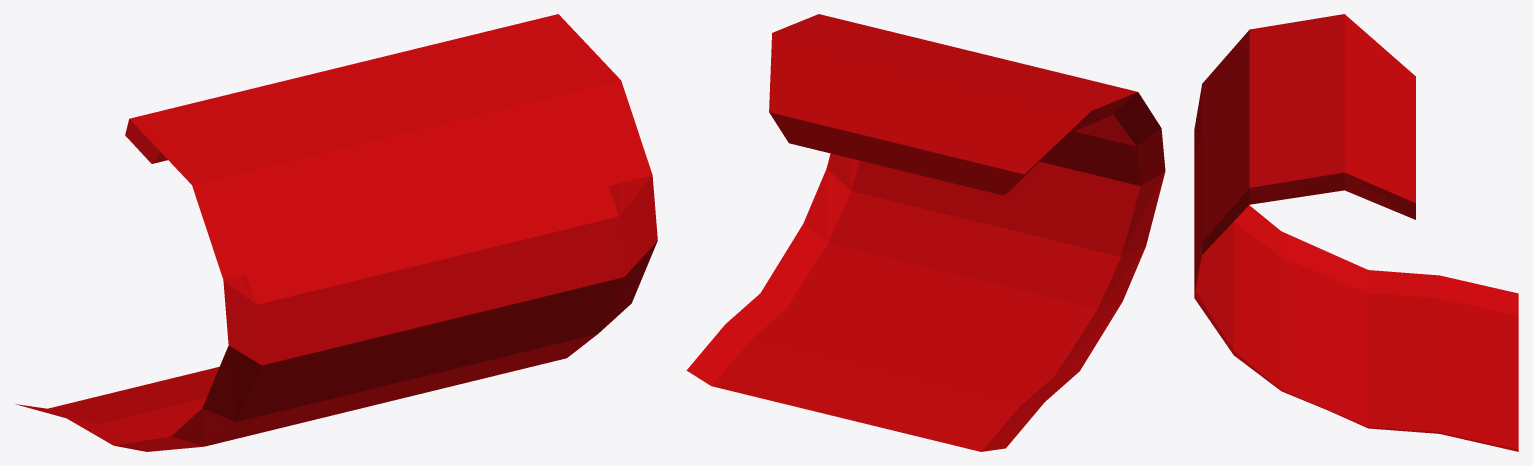
Rendered from wave_obj.obj.
3 views of the same model, side by side, from view 1: azimuth 30°, elevation 25°; view 2: azimuth 150°, elevation 25°; view 3: azimuth 270°, elevation 25° (orthographic). The views are drawn at different scales.
Parts seen in each view (by area): view 1: Wave_Plane.001; view 2: Wave_Plane.001; view 3: Wave_Plane.001.
Part boxes in pixels (x1,y1,x2,y2): Wave_Plane.001: [15, 14, 657, 451]; Wave_Plane.001: [686, 14, 1165, 451]; Wave_Plane.001: [1194, 14, 1518, 451].
Bounding box in the file's own units: 4.74 × 4.03 × 4.1.
